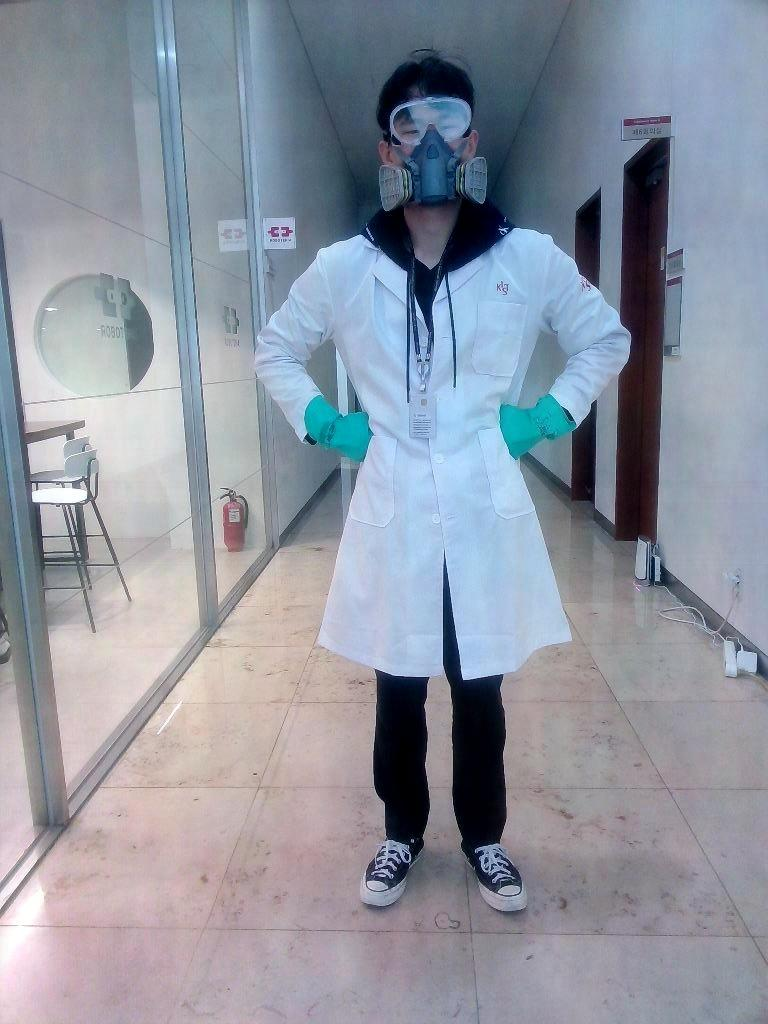Lab_coat: (252, 226, 633, 682)
